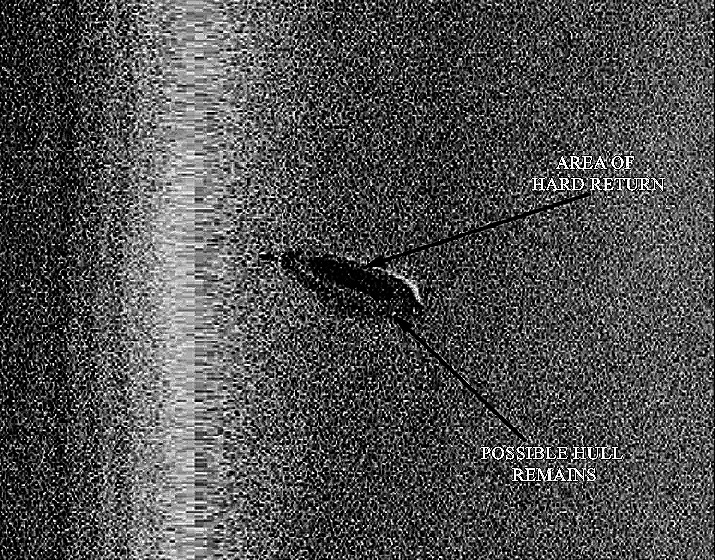ship: (274, 249, 427, 313)
